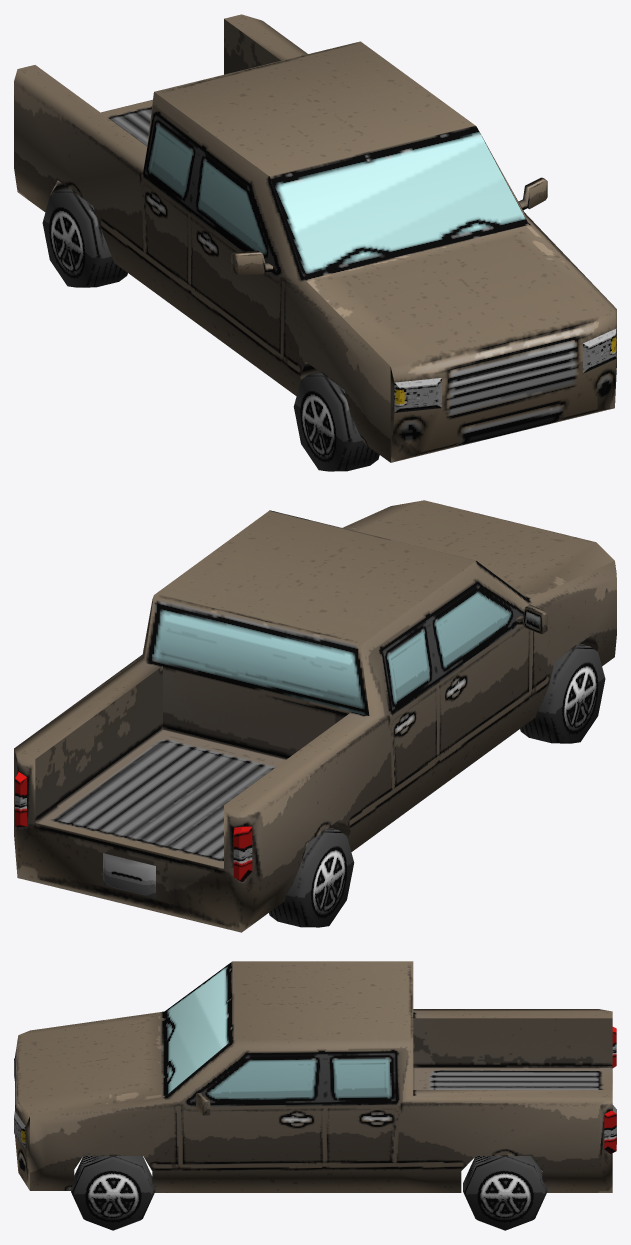
The model's file is Truck.fbx.
3 renders of one model, top to bottom at view 1: azimuth 30°, elevation 25°; view 2: azimuth 150°, elevation 25°; view 3: azimuth 270°, elevation 25°, orthographic. The views are drawn at different scales.
Parts seen in each view (by area): view 1: pCube4, BackRightWheel, FrontRightWheel; view 2: pCube4, FrontRightWheel, BackRightWheel; view 3: pCube4, FrontLeftWheel, BackLeftWheel.
Boxes of the visible parts, x1,y1,x2,y2 form: pCube4: (14, 14, 616, 462); BackRightWheel: (42, 188, 127, 287); FrontRightWheel: (293, 371, 379, 471); pCube4: (14, 500, 616, 932); FrontRightWheel: (520, 643, 605, 743); BackRightWheel: (269, 827, 354, 927); pCube4: (14, 961, 616, 1192); FrontLeftWheel: (71, 1155, 155, 1230); BackLeftWheel: (463, 1155, 547, 1230).
Bounding box in the file's own units: 294 × 211 × 630.
